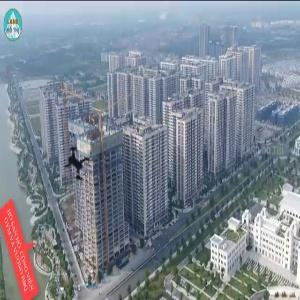drone: (46, 131, 113, 198)
